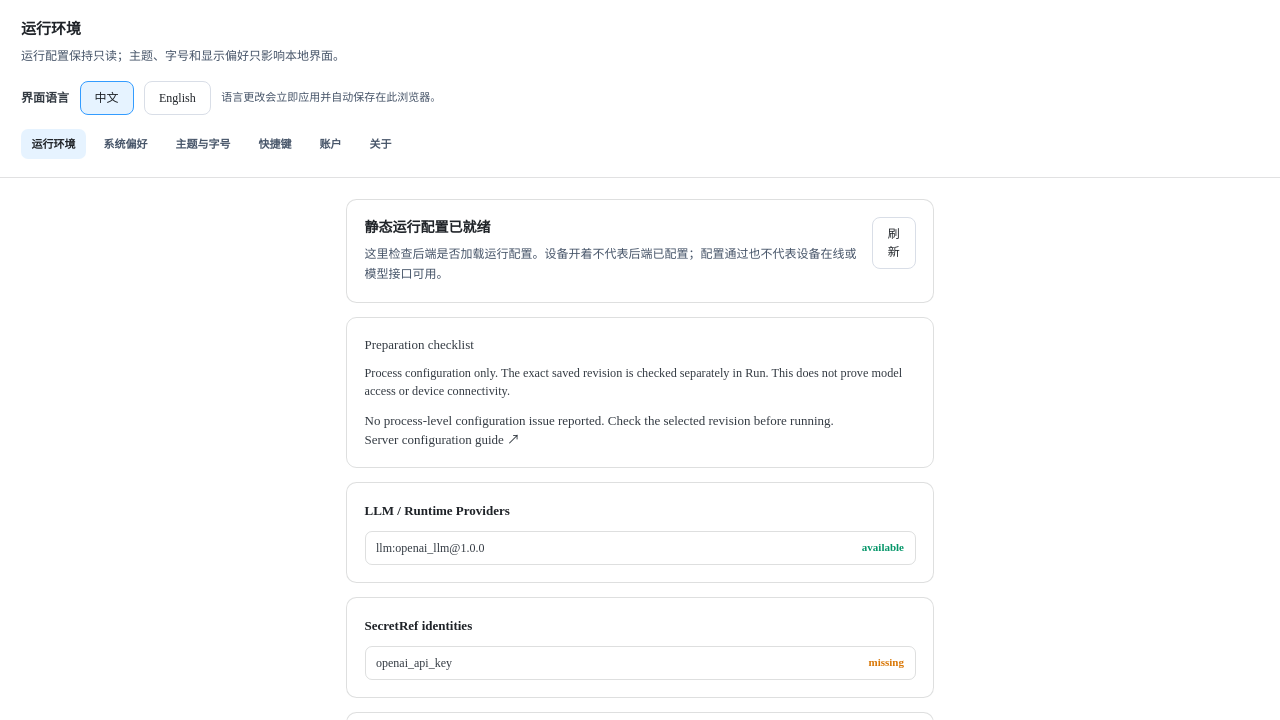
Settings runtime environment › replaces cached readiness with a failure state and retries only the read-only query
Click the button "刷新" at (894, 243), box [872,217,916,269]
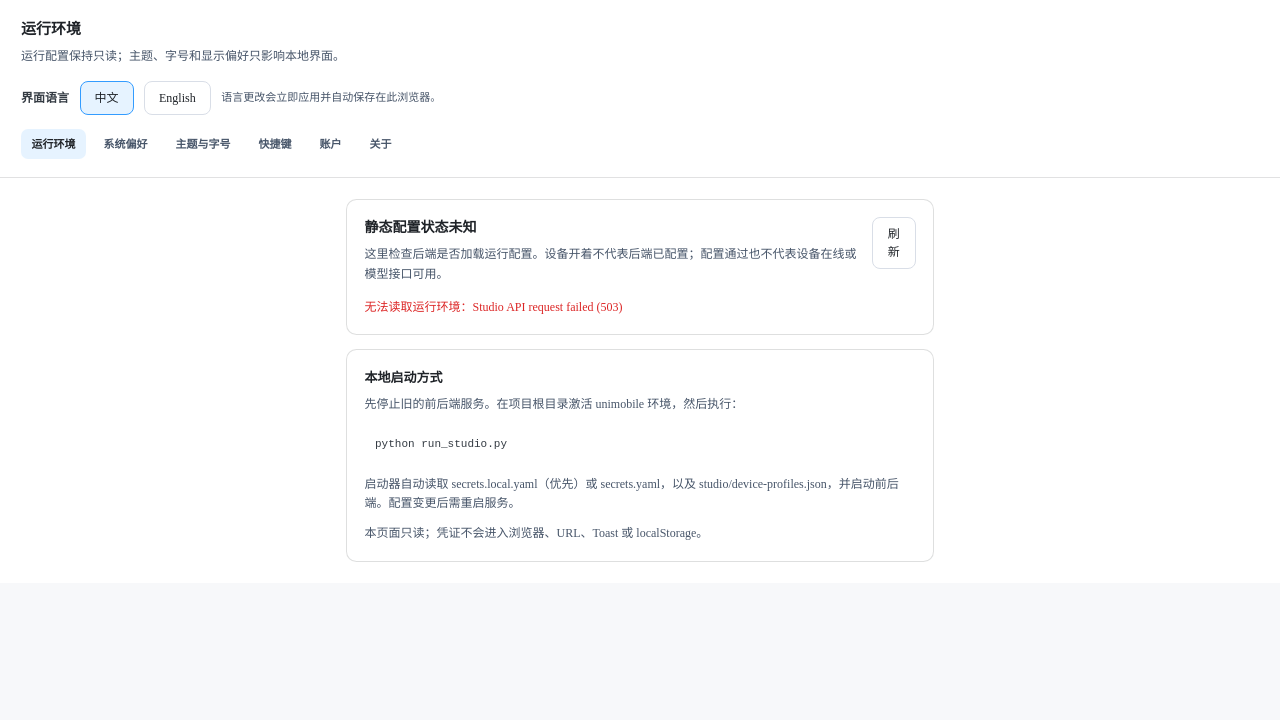
Check: the heading "静态配置状态未知" is shown, box [364,220,476,235]
Check: the heading "Preparation checklist" is gone
Click the button "刷新" at (894, 243), box [872,217,916,269]
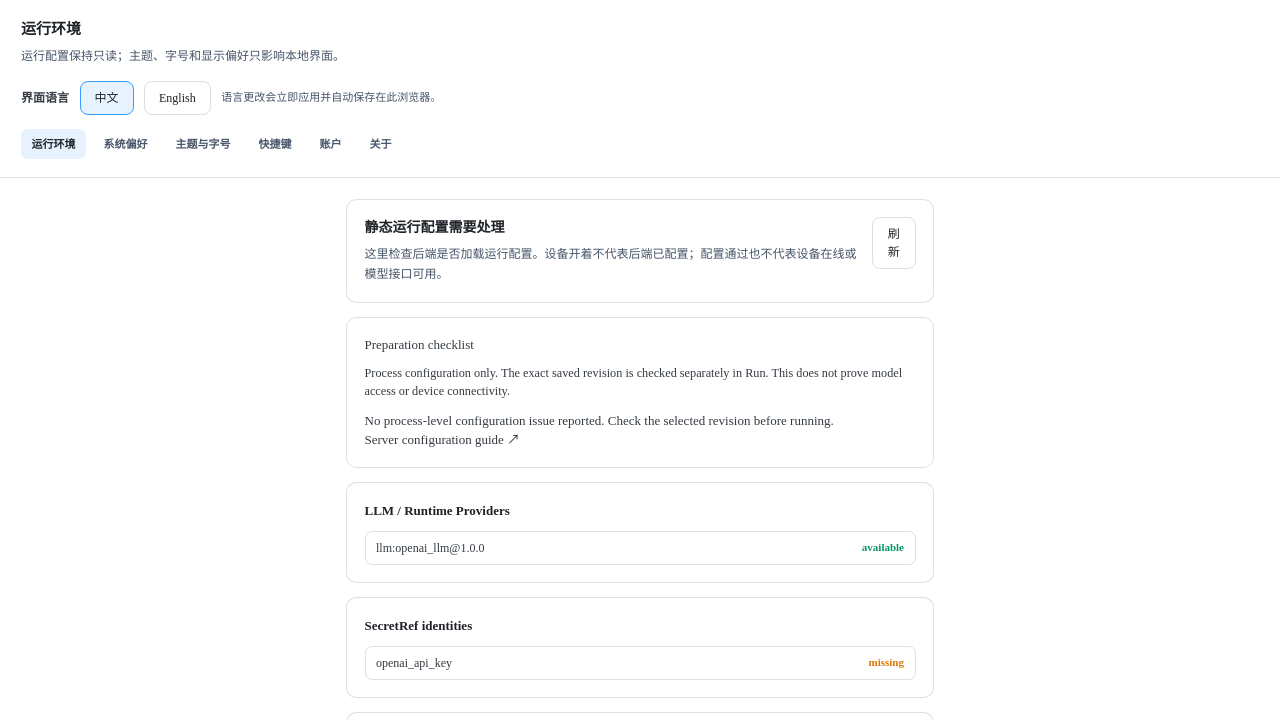
Check: the heading "静态运行配置需要处理" is shown, box [364,220,504,235]
